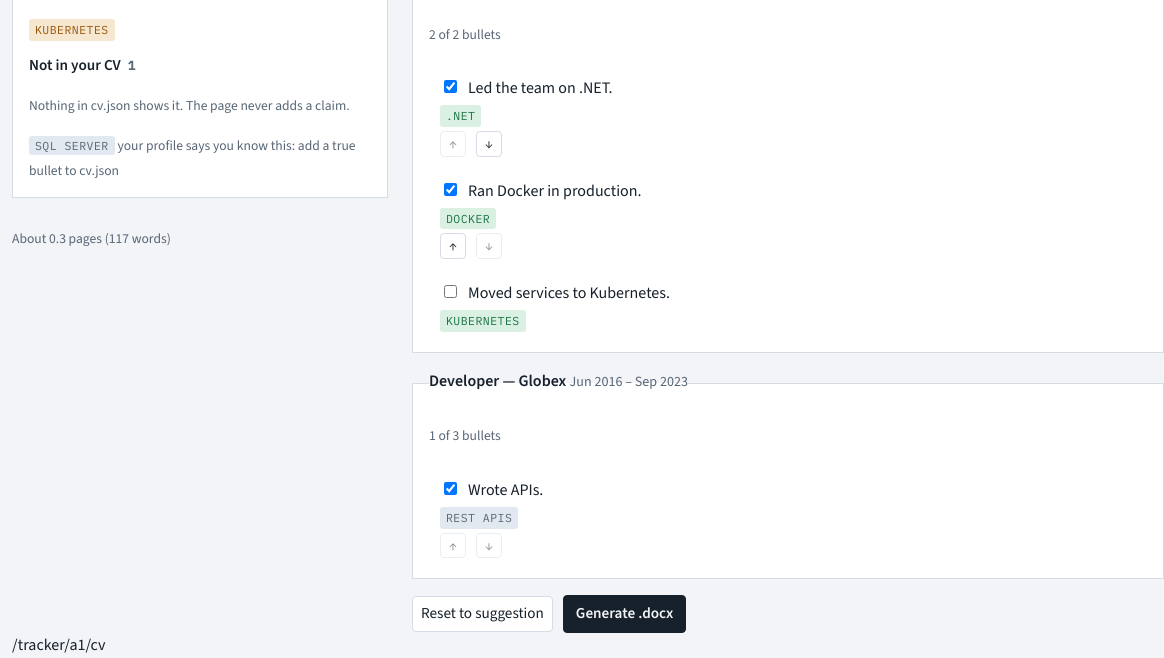
Test: Tailor CV page › shows a later failure instead of the dropped-bullets notice
The width and height of the screenshot is (1164, 658).
(page scrolled)
Click the button "Generate .docx".
click(625, 614)  # box [563,595,686,633]
(page scrolled)
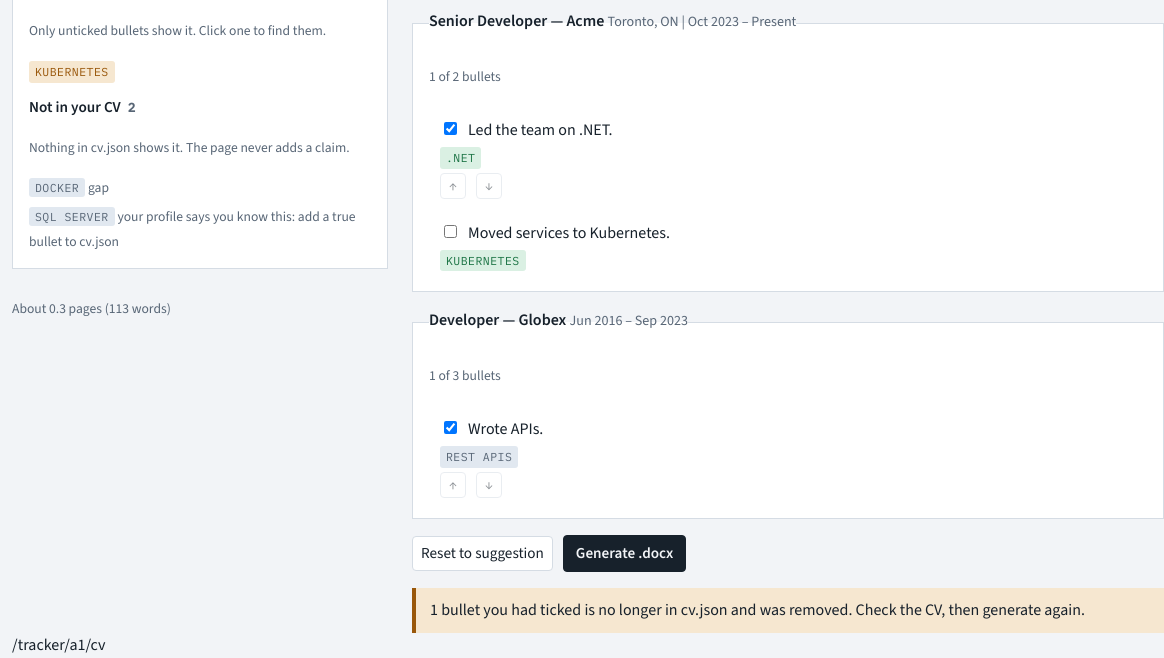
Result: the text "1 bullet you had ticked is no longer in cv.json" is shown at [412,588,1163,633]
Click the button "Generate .docx".
click(625, 554)  # box [563,535,686,572]
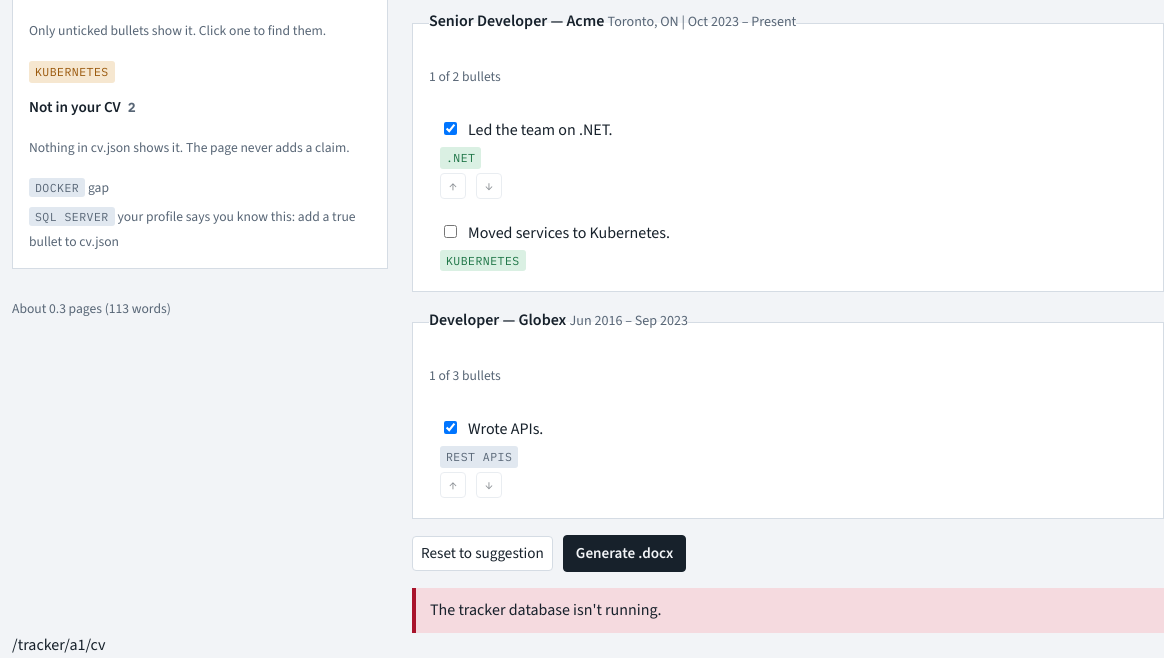
Result: the text "The tracker database isn't running." is shown at [412,588,1163,633]
Result: the text "no longer in cv.json" is gone
